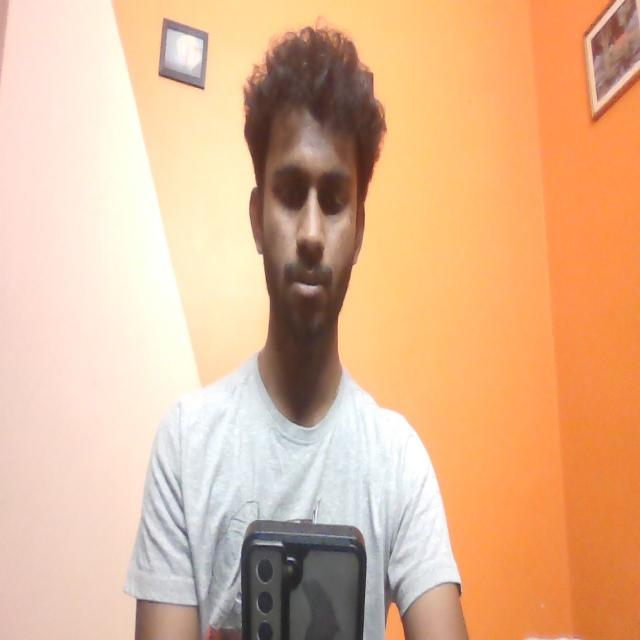phone: (240, 517, 367, 640)
